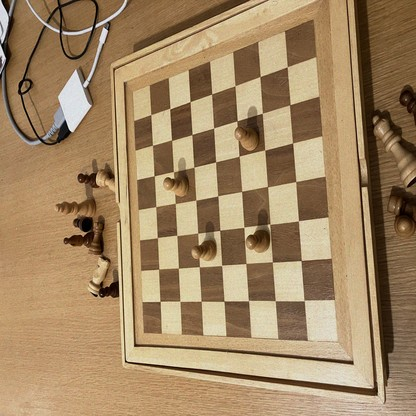bishop_black: (64, 232, 95, 247)
king_white: (55, 198, 97, 217)
knight_white: (89, 257, 109, 296)
pawn_black: (77, 172, 100, 187), (100, 280, 120, 297), (73, 218, 91, 231)
pawn_white: (234, 126, 259, 151), (247, 230, 270, 254), (394, 212, 415, 238), (191, 241, 217, 261), (165, 176, 188, 197)
queen_white: (371, 112, 416, 187)
rock_black: (90, 217, 105, 254)
